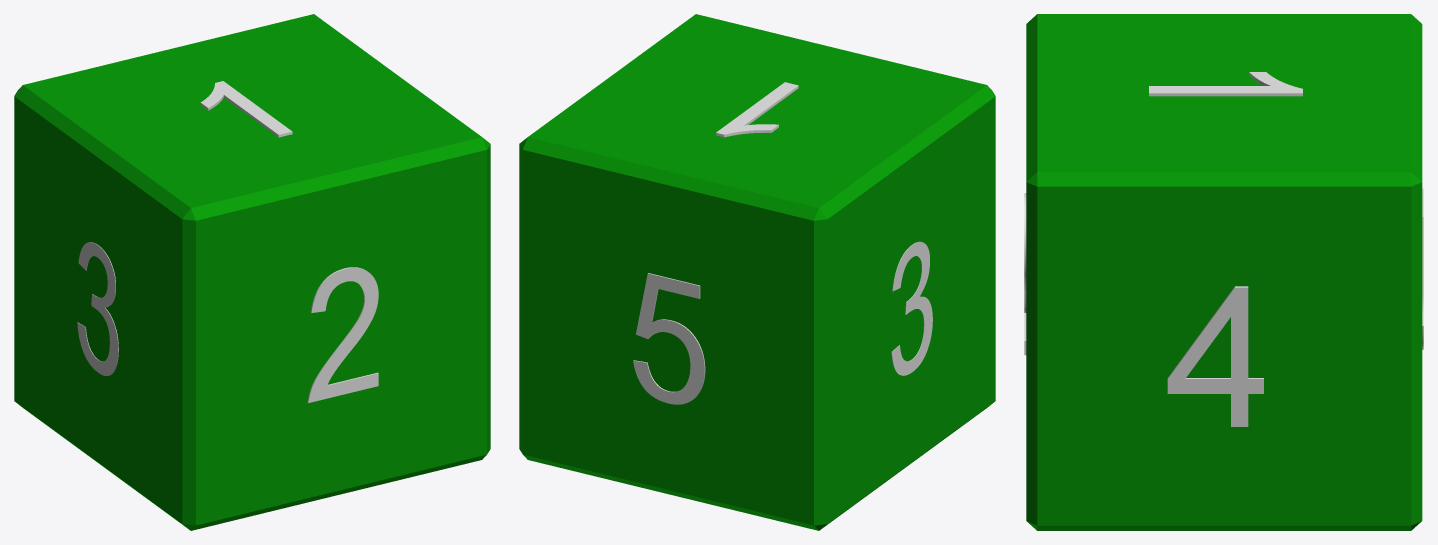
The picture shows the model from 3 angles, left to right: view 1: azimuth 30°, elevation 25°; view 2: azimuth 150°, elevation 25°; view 3: azimuth 270°, elevation 25°; orthographic projection. The views are drawn at different scales.
Parts seen in each view (by area): view 1: Cube, 2.001, 3.001, 1.001; view 2: Cube, 5.001, 3.001, 1.001; view 3: Cube, 4.001, 1.001, 2.001.
Part boxes in pixels (x1,y1,x2,y2): Cube: (14,14,490,530); 2.001: (307,267,378,403); 3.001: (77,242,118,375); 1.001: (200,81,292,137); Cube: (519,14,995,530); 5.001: (633,273,705,404); 3.001: (891,241,932,375); 1.001: (716,82,798,137); Cube: (1026,14,1422,530); 4.001: (1167,286,1263,426); 1.001: (1149,72,1302,96); 2.001: (1024,193,1026,355).
Size of the model in its own units: 2.02 by 2.02 by 2.02.
